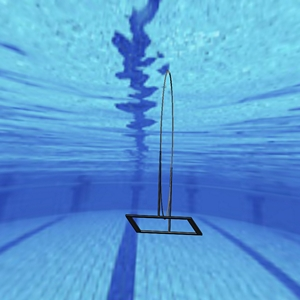circle: (124, 69, 204, 235)
